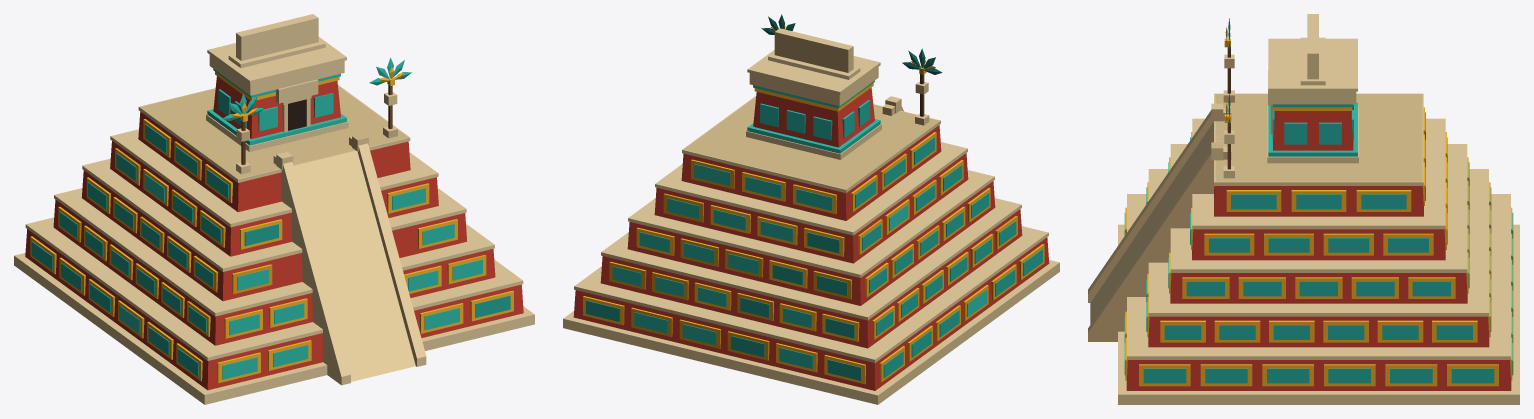
File: landmark-far.glb
The picture shows the model from 3 angles, left to right: view 1: azimuth 30°, elevation 25°; view 2: azimuth 150°, elevation 25°; view 3: azimuth 270°, elevation 25°; orthographic projection. The views are drawn at different scales.
Visible parts, largest first — view 1: ziggurat-far; view 2: ziggurat-far; view 3: ziggurat-far.
Boxes of the visible parts, x1,y1,x2,y2 form: ziggurat-far: (14, 14, 534, 404); ziggurat-far: (563, 14, 1059, 404); ziggurat-far: (1088, 14, 1519, 404).
Size of the model in its own units: 70 by 55 by 75.2.
Materials: 1 (1 with a texture image).
